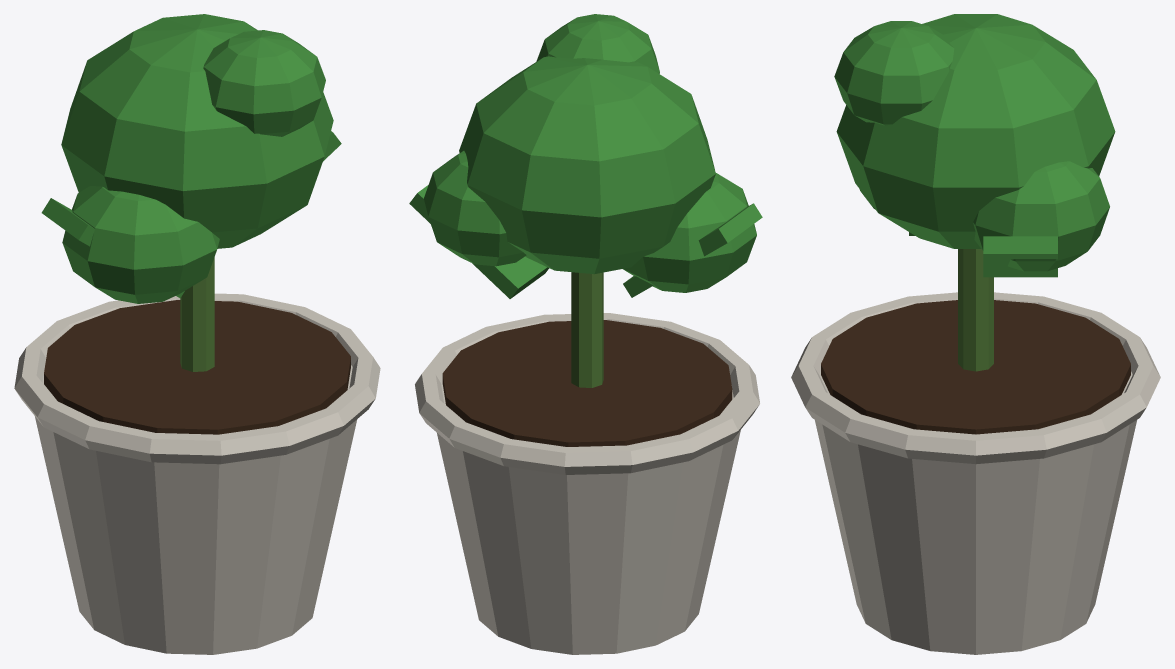
File: plant_pot.glb
3 views of the same model, side by side, from view 1: azimuth 30°, elevation 25°; view 2: azimuth 150°, elevation 25°; view 3: azimuth 270°, elevation 25° (orthographic). The views are drawn at different scales.
Parts seen in each view (by area): view 1: plant_pot; view 2: plant_pot; view 3: plant_pot.
Boxes of the visible parts, left/top/right/bottom form: plant_pot: left=14, top=14, right=380, bottom=654; plant_pot: left=409, top=14, right=762, bottom=654; plant_pot: left=791, top=14, right=1160, bottom=654.
Bounding box in the file's own units: 0.248 × 0.436 × 0.248.
